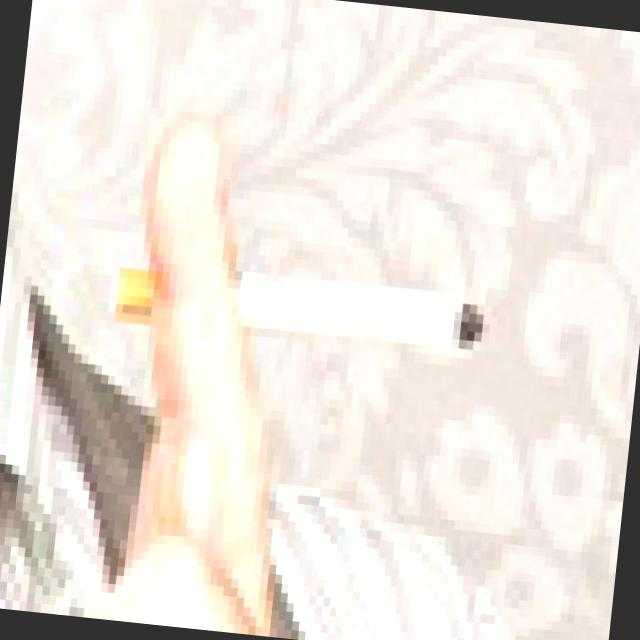smoke: (115, 250, 500, 352)
